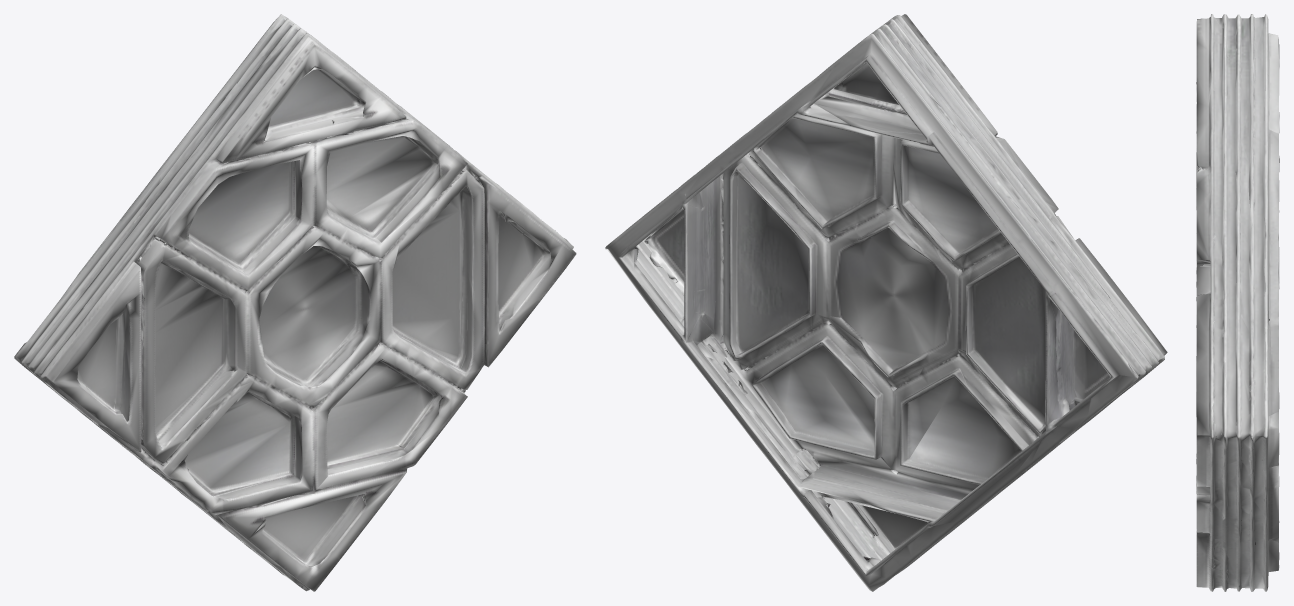
Rendered from ceiling-futuristic.glb.
3 renders of one model, left to right at view 1: azimuth 30°, elevation 25°; view 2: azimuth 150°, elevation 25°; view 3: azimuth 270°, elevation 25°, orthographic. The views are drawn at different scales.
Visible parts, largest first — view 1: Mesh1.0; view 2: Mesh1.0; view 3: Mesh1.0.
Part boxes in pixels (bbox=[...]): Mesh1.0: bbox=[14, 14, 576, 591]; Mesh1.0: bbox=[605, 14, 1167, 591]; Mesh1.0: bbox=[1196, 14, 1279, 591].
Bounding box in the file's own units: 1.91 × 1.91 × 0.2496.
1 material, 1 textured.
